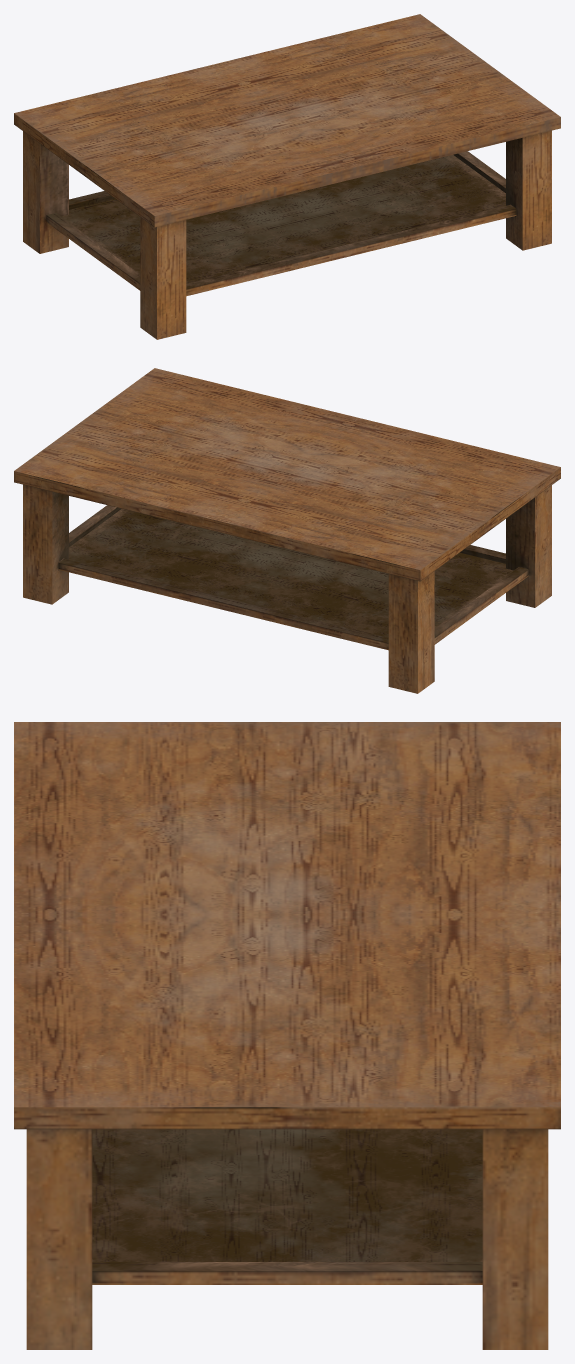
Rendered from Table 1 V1.glb.
The picture shows the model from 3 angles, top to bottom: view 1: azimuth 30°, elevation 25°; view 2: azimuth 150°, elevation 25°; view 3: azimuth 270°, elevation 25°; orthographic projection. The views are drawn at different scales.
Parts seen in each view (by area): view 1: Table 1 V1; view 2: Table 1 V1; view 3: Table 1 V1.
Part boxes in pixels (x1,y1,x2,y2): Table 1 V1: (14,14,560,339); Table 1 V1: (14,368,560,693); Table 1 V1: (14,722,560,1349).
Size of what is drawn, in the model's own units: 1.87 by 0.5611 by 1.12.
1 material, 1 textured.
